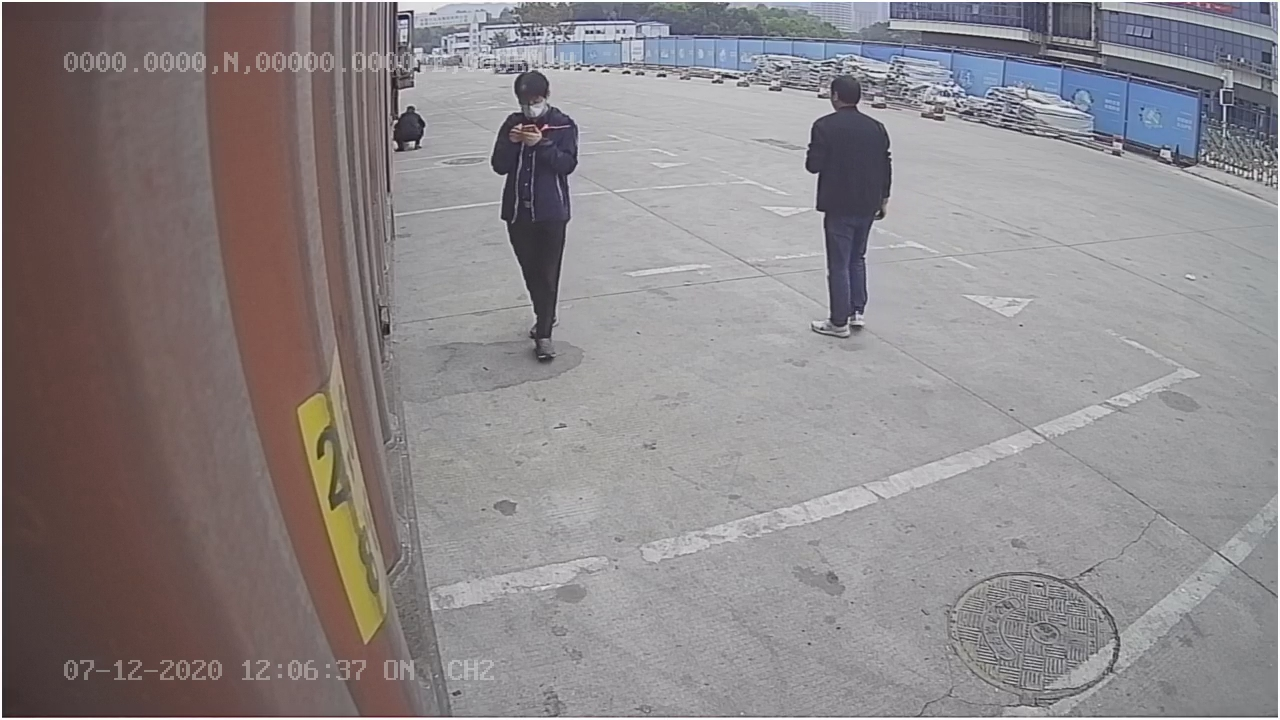person: (482, 65, 584, 359), (802, 72, 896, 337)
